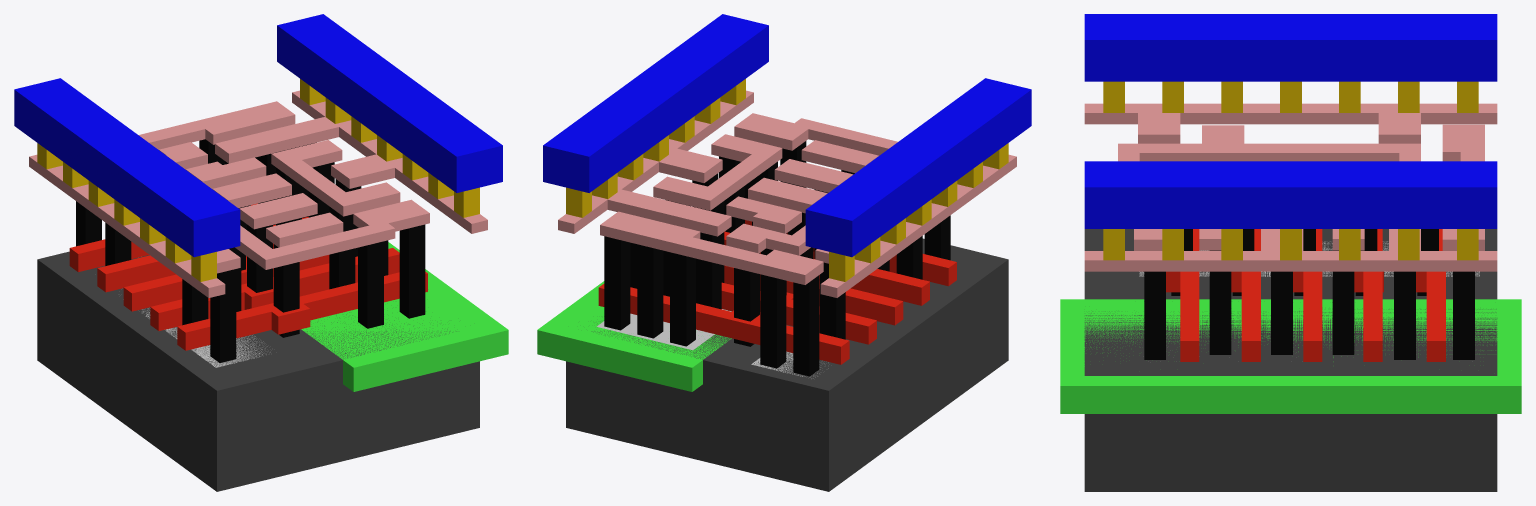
The model's file is sky130_fd_sc_hd__a31o_1.obj.
The picture shows the model from 3 angles, left to right: view 1: azimuth 30°, elevation 25°; view 2: azimuth 150°, elevation 25°; view 3: azimuth 270°, elevation 25°; orthographic projection. The views are drawn at different scales.
Visible parts, largest first — view 1: subs, metal1, li, licon, nwell, poly, mcon, diff; view 2: subs, metal1, li, licon, poly, nwell, mcon, tap; view 3: metal1, subs, nwell, li, licon, poly, mcon.
Part boxes in pixels (left/top/right/bottom): subs: left=37, top=251, right=479, bottom=491; metal1: left=14, top=14, right=502, bottom=257; li: left=29, top=90, right=487, bottom=297; licon: left=76, top=139, right=425, bottom=362; nwell: left=301, top=242, right=508, bottom=391; poly: left=69, top=203, right=427, bottom=350; mcon: left=37, top=79, right=479, bottom=281; diff: left=142, top=308, right=270, bottom=367; subs: left=566, top=238, right=1008, bottom=491; metal1: left=543, top=14, right=1031, bottom=257; li: left=558, top=90, right=1016, bottom=297; licon: left=604, top=141, right=950, bottom=376; poly: left=598, top=220, right=956, bottom=364; nwell: left=537, top=281, right=731, bottom=391; mcon: left=566, top=79, right=1008, bottom=281; tap: left=596, top=309, right=731, bottom=350; metal1: left=1084, top=14, right=1497, bottom=228; subs: left=1084, top=229, right=1497, bottom=491; nwell: left=1060, top=299, right=1521, bottom=413; li: left=1084, top=103, right=1497, bottom=271; licon: left=1144, top=229, right=1474, bottom=359; poly: left=1166, top=229, right=1445, bottom=361; mcon: left=1103, top=81, right=1478, bottom=260.
Bounding box in the file's own units: 3.2 × 2.74 × 3.6.
